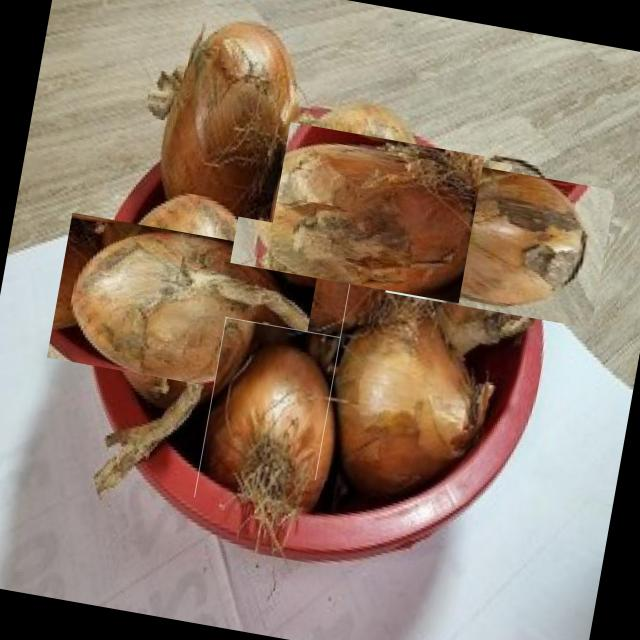Onion: (68, 190, 300, 422), (246, 98, 468, 320), (314, 282, 504, 506), (399, 140, 602, 342), (139, 6, 307, 222), (194, 316, 346, 518)
